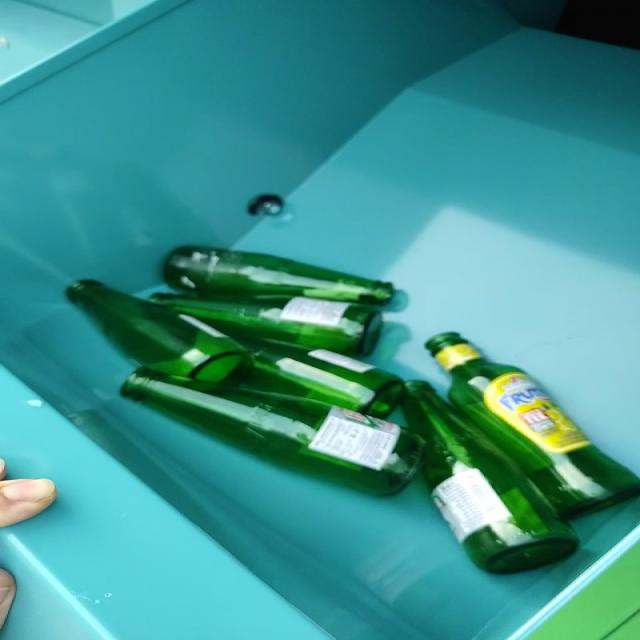glass: (68, 246, 640, 574)
